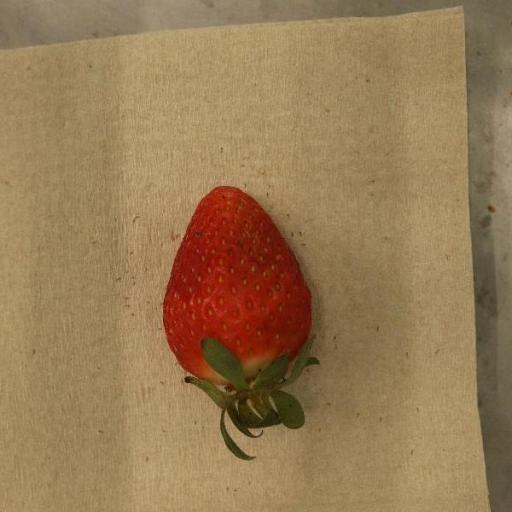Strawberry: (163, 186, 320, 462)
